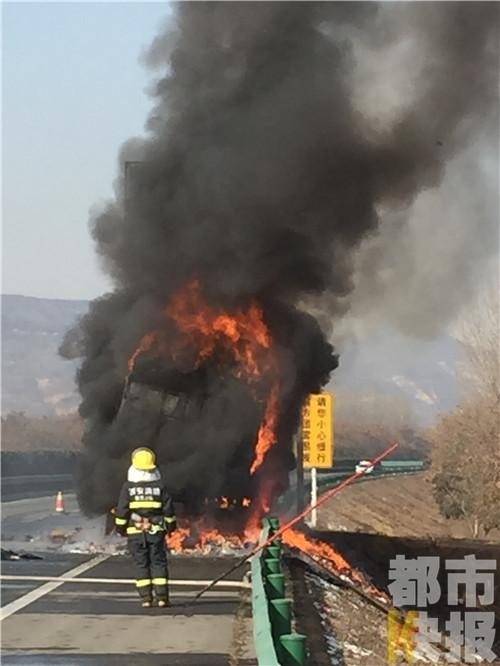fire: (87, 279, 314, 536)
